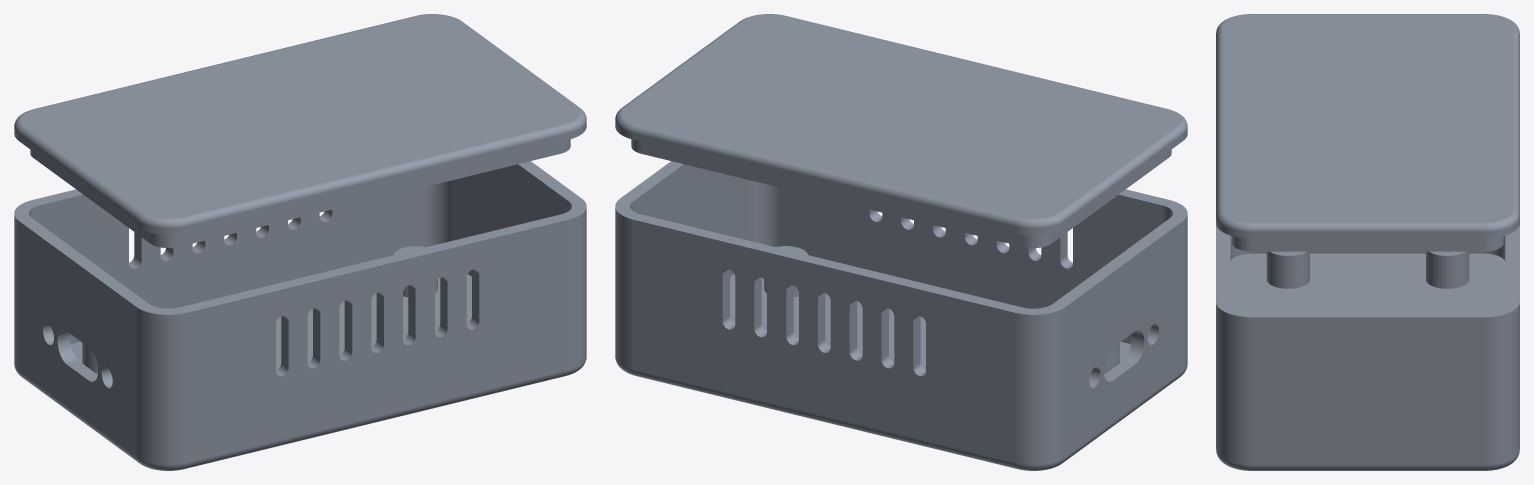
The model's file is step-5-preview-1.glb.
3 views of the same model, side by side, from view 1: azimuth 30°, elevation 25°; view 2: azimuth 150°, elevation 25°; view 3: azimuth 270°, elevation 25° (orthographic).
Parts seen in each view (by area): view 1: preview_112, preview_12, preview_25, preview_0, preview_1, preview_3, preview_23, preview_119, preview_126, preview_16, preview_111, preview_27 (+8 smaller); view 2: preview_112, preview_15, preview_21, preview_0, preview_4, preview_3, preview_23, preview_123, preview_127, preview_17, preview_114, preview_56 (+8 smaller); view 3: preview_112, preview_18, preview_88, preview_16, preview_17, preview_3, preview_121, preview_130, preview_59, preview_117, preview_126, preview_127 (+5 smaller).
Boxes of the visible parts, box(x1,y1,x2,y2) form: preview_112: box(21, 14, 579, 218); preview_12: box(186, 220, 568, 462); preview_25: box(40, 188, 421, 343); preview_0: box(19, 221, 136, 456); preview_1: box(136, 307, 186, 464); preview_3: box(14, 161, 586, 314); preview_23: box(451, 164, 568, 276); preview_119: box(178, 142, 560, 246); preview_126: box(183, 124, 568, 225); preview_16: box(568, 208, 586, 369); preview_111: box(186, 133, 568, 232); preview_27: box(185, 369, 568, 468); preview_112: box(622, 14, 1180, 218); preview_15: box(633, 220, 1015, 462); preview_21: box(780, 188, 1161, 343); preview_0: box(1065, 221, 1182, 456); preview_4: box(1015, 307, 1065, 464); preview_3: box(615, 161, 1187, 314); preview_23: box(633, 164, 750, 276); preview_123: box(641, 142, 1023, 246); preview_127: box(633, 124, 1018, 225); preview_17: box(615, 208, 633, 369); preview_114: box(633, 133, 1015, 232); preview_56: box(633, 369, 1016, 468); preview_112: box(1223, 14, 1512, 222); preview_18: box(1252, 317, 1483, 464); preview_88: box(1230, 253, 1505, 311); preview_16: box(1216, 302, 1252, 464); preview_17: box(1483, 302, 1519, 464); preview_3: box(1216, 224, 1519, 317); preview_121: box(1252, 238, 1483, 251); preview_130: box(1252, 222, 1483, 231); preview_59: box(1252, 464, 1483, 470); preview_117: box(1252, 232, 1483, 238); preview_126: box(1216, 27, 1223, 215); preview_127: box(1512, 27, 1519, 215).
Bounding box in the file's own units: 0.07 × 0.038 × 0.042.
